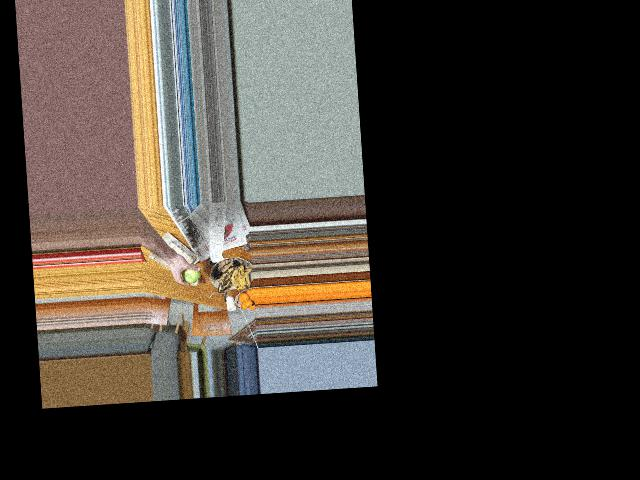apple: (177, 261, 202, 286)
